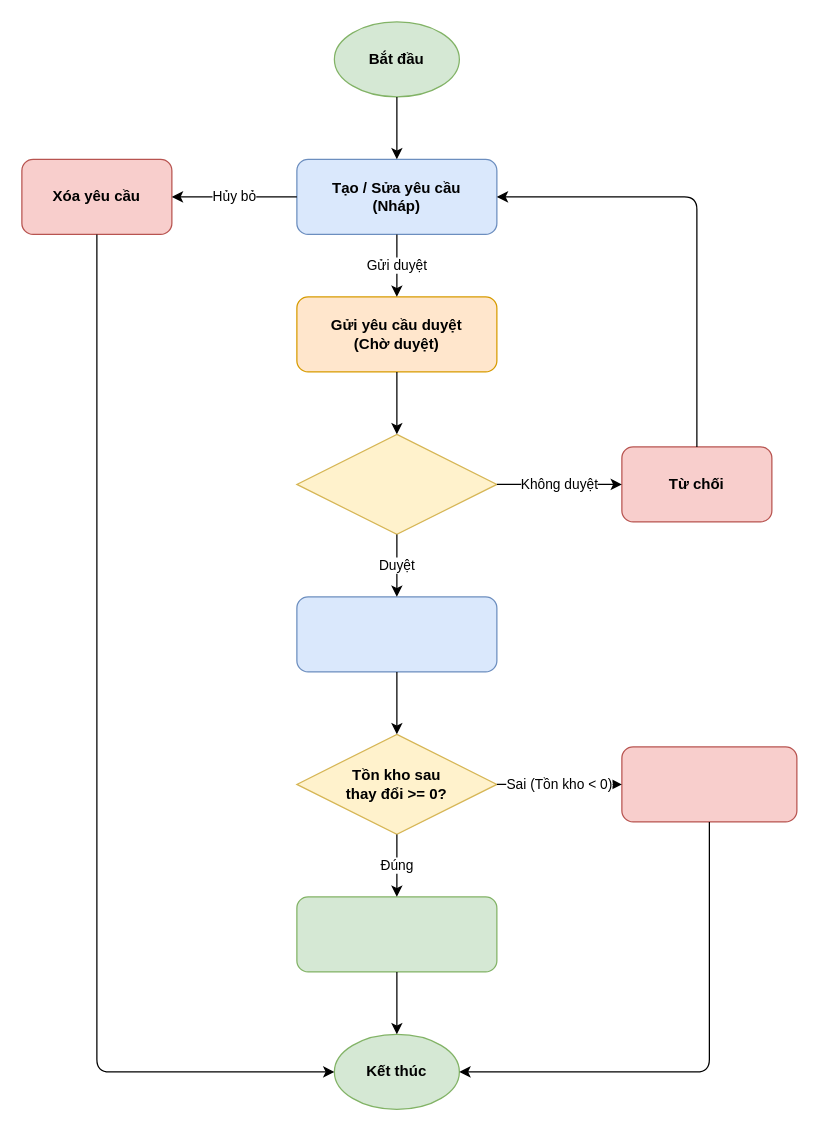
The diagram is 819 pixels wide and 1131 high, and some of its shapes have lost their labels. Here are the shapes that lost their labels. From the top down, the centre of each, then its label:
(396,483): Admin duyệt?
(396,634): Áp dụng thay đổi tồn kho
(709,784): Báo lỗi / Không áp dụng
(396,934): Cập nhật thành công
